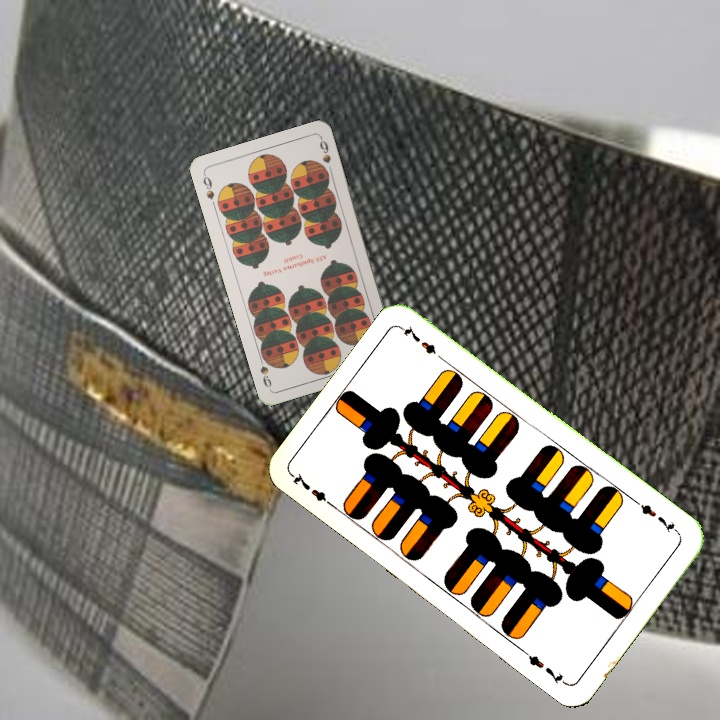E7: (288, 469, 339, 512), (631, 496, 682, 537)
S9: (199, 170, 217, 202)
